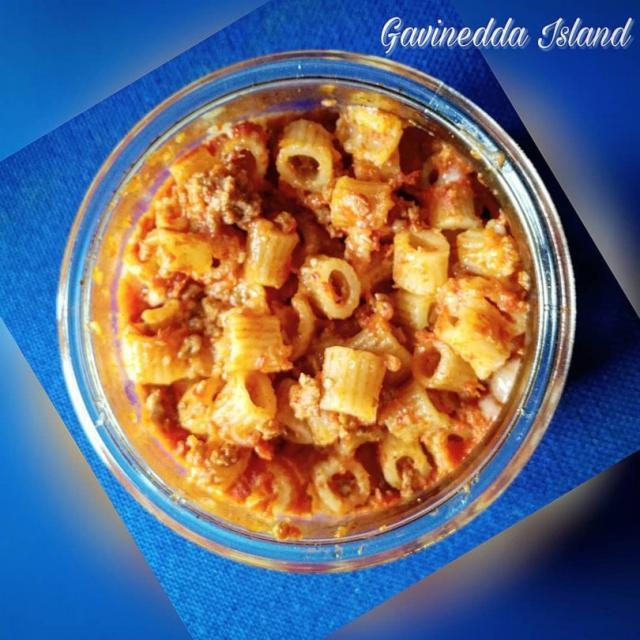Pasta al ragu: (97, 66, 542, 536)
